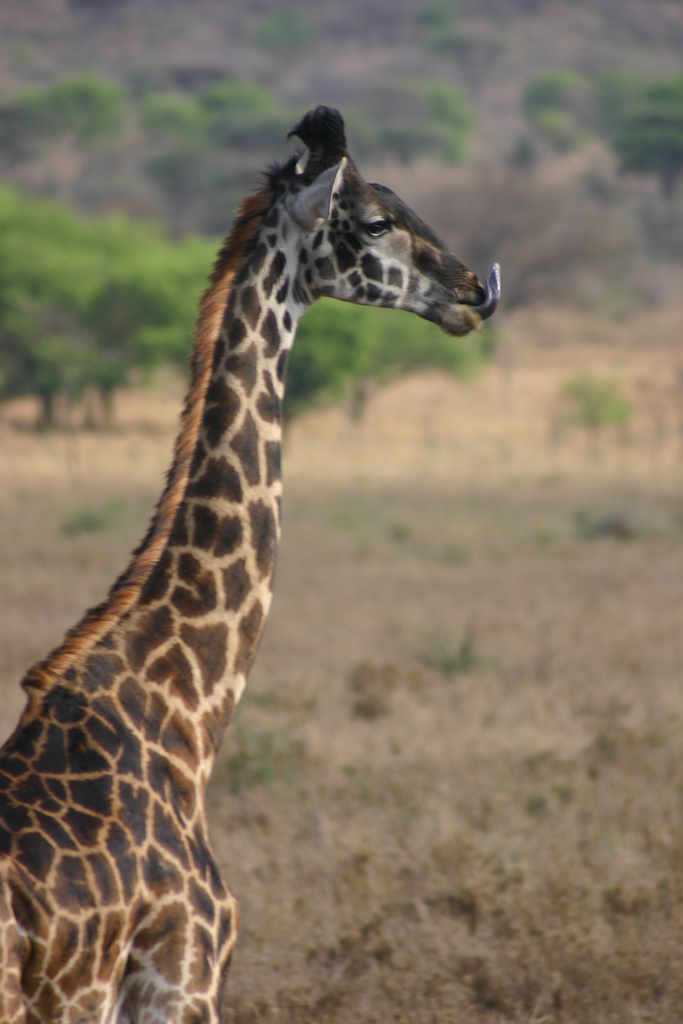giraffe: (28, 110, 520, 992)
